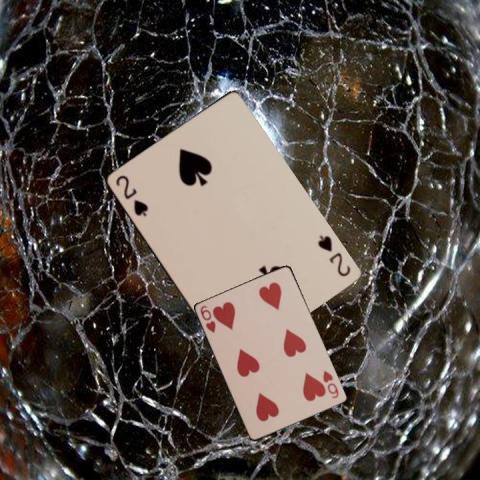2s: (112, 171, 149, 218), (314, 232, 351, 278)
6h: (320, 367, 341, 400), (198, 302, 218, 334)
